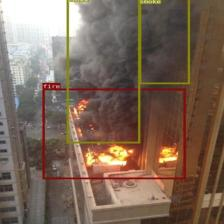fire: (42, 88, 185, 179)
smoke: (66, 0, 140, 143), (138, 0, 190, 84)
